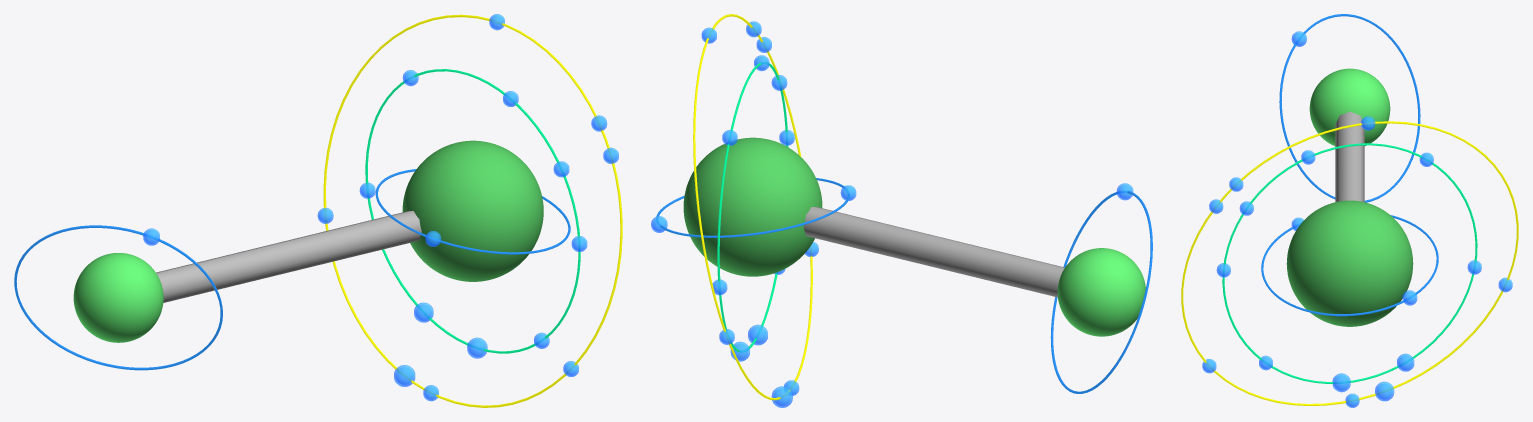
The model's file is HCl.glb.
3 renders of one model, left to right at view 1: azimuth 30°, elevation 25°; view 2: azimuth 150°, elevation 25°; view 3: azimuth 270°, elevation 25°, orthographic. The views are drawn at different scales.
Parts seen in each view (by area): view 1: Cl, object 43, H, object 28, object 11, object 2, object 6; view 2: Cl, object 43, H, object 28, object 2, object 11, object 6; view 3: Cl, H, object 43, object 28, object 11, object 2, object 6, object 42.
Part boxes in pixels (bbox=[...]): Cl: bbox=[402, 140, 543, 281]; object 43: bbox=[156, 211, 421, 302]; H: bbox=[73, 253, 163, 342]; object 28: bbox=[323, 14, 622, 407]; object 11: bbox=[365, 69, 580, 353]; object 2: bbox=[14, 225, 222, 370]; object 6: bbox=[375, 169, 570, 254]; Cl: bbox=[683, 137, 822, 276]; object 43: bbox=[803, 207, 1064, 297]; H: bbox=[1057, 248, 1145, 336]; object 28: bbox=[693, 14, 812, 400]; object 2: bbox=[1050, 191, 1152, 393]; object 11: bbox=[717, 63, 788, 351]; object 6: bbox=[656, 178, 849, 237]; Cl: bbox=[1286, 200, 1413, 326]; H: bbox=[1309, 68, 1390, 145]; object 43: bbox=[1335, 111, 1364, 201]; object 28: bbox=[1181, 121, 1518, 405]; object 11: bbox=[1222, 143, 1477, 383]; object 2: bbox=[1279, 14, 1420, 202]; object 6: bbox=[1261, 215, 1438, 316]; object 42: bbox=[1375, 381, 1394, 401].
Bounding box in the file's own units: 7.22 × 4.87 × 4.61.
